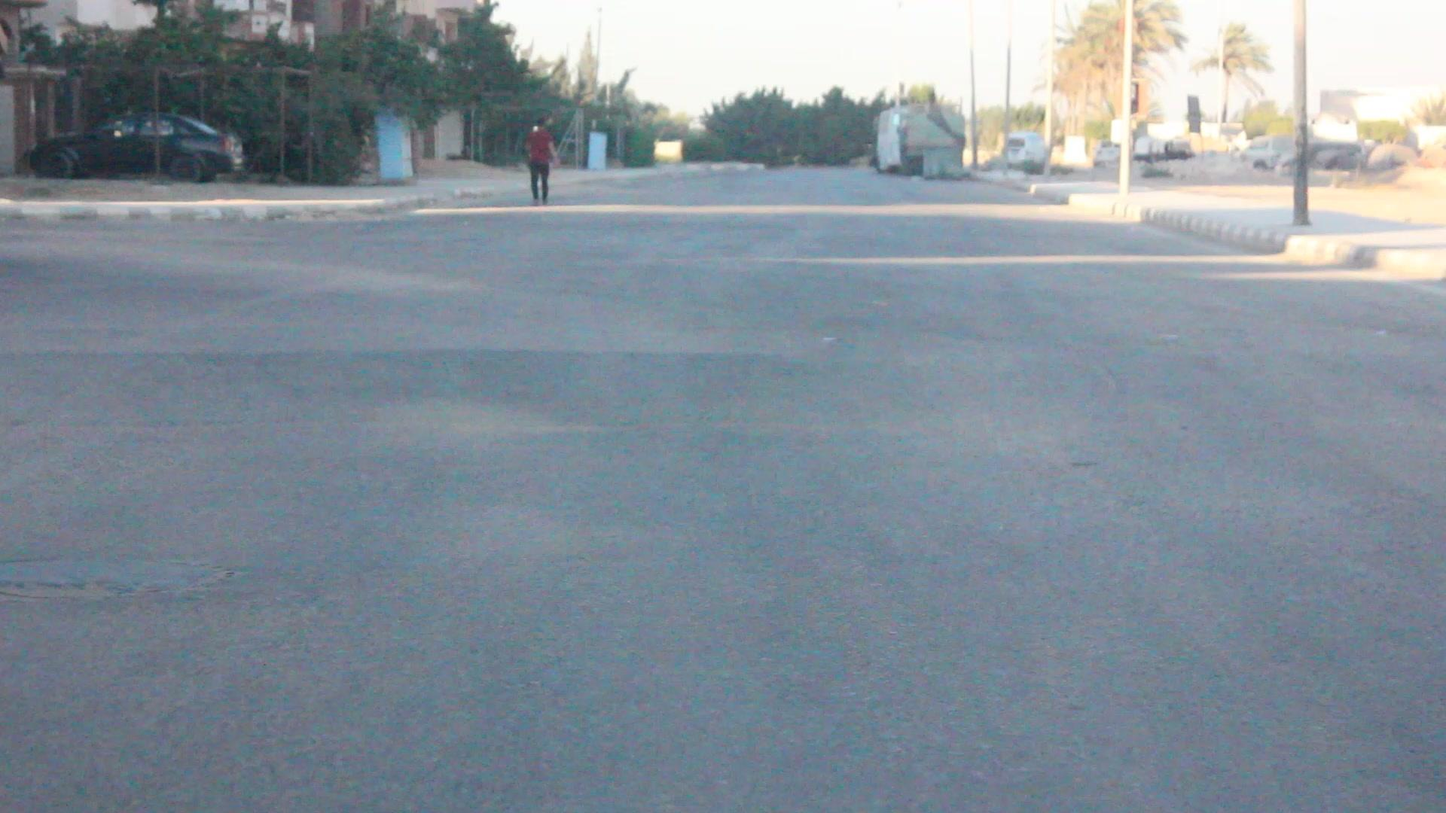Bump: (2, 327, 1446, 444)
Pothole: (0, 544, 309, 630)
